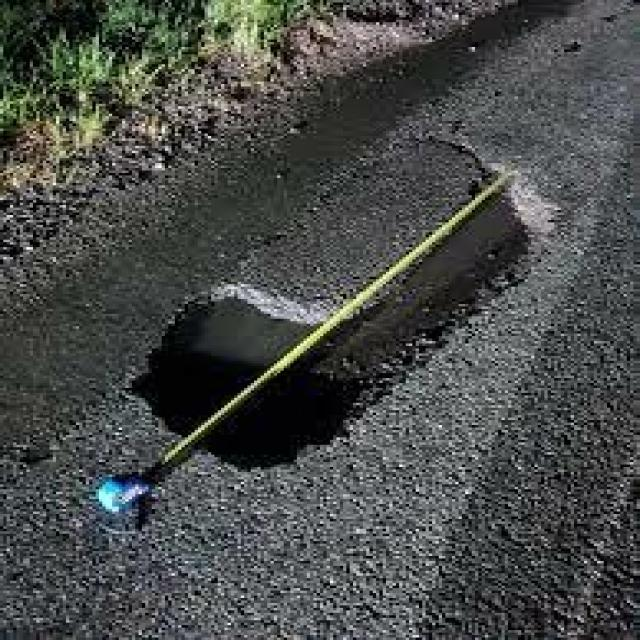Pothole: (115, 158, 588, 499)
